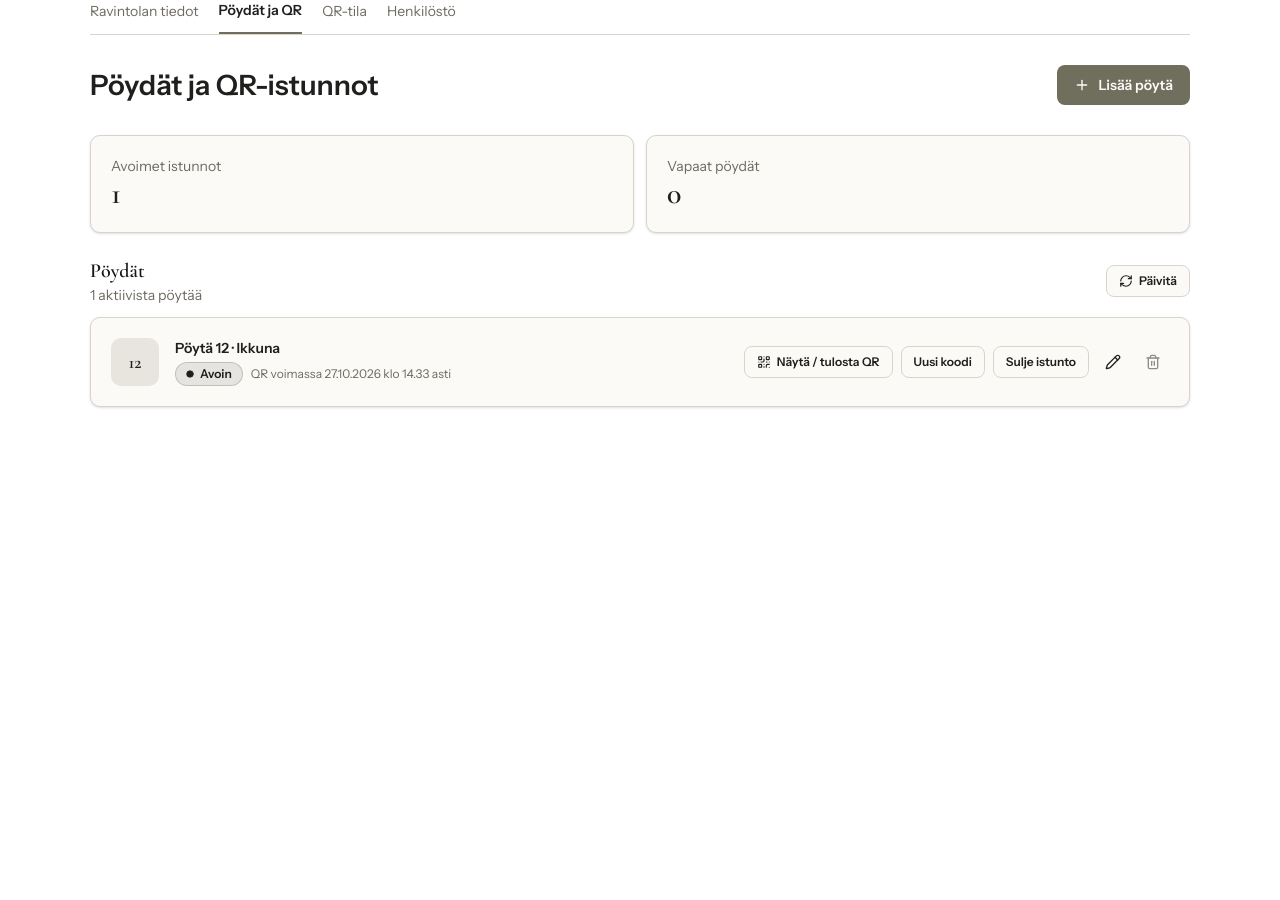
QR-01 tables screen › shows a Finnish business-rule message when unpaid orders block closing
Step 1. Click the button "Sulje istunto" → click(1041, 362), box [993,346,1089,378]
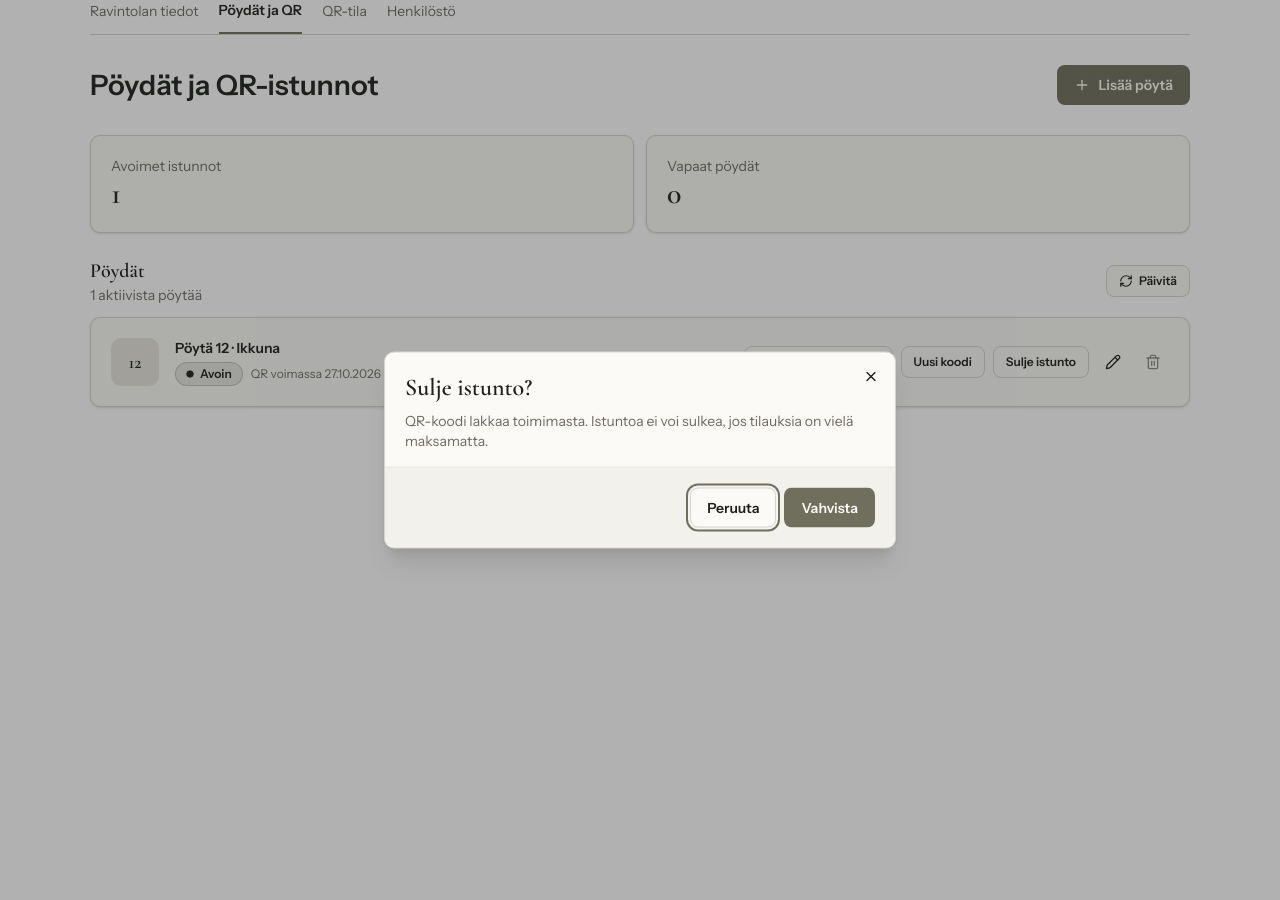
Step 2. Click the button "Vahvista" → click(830, 508), box [784,488,875,528]
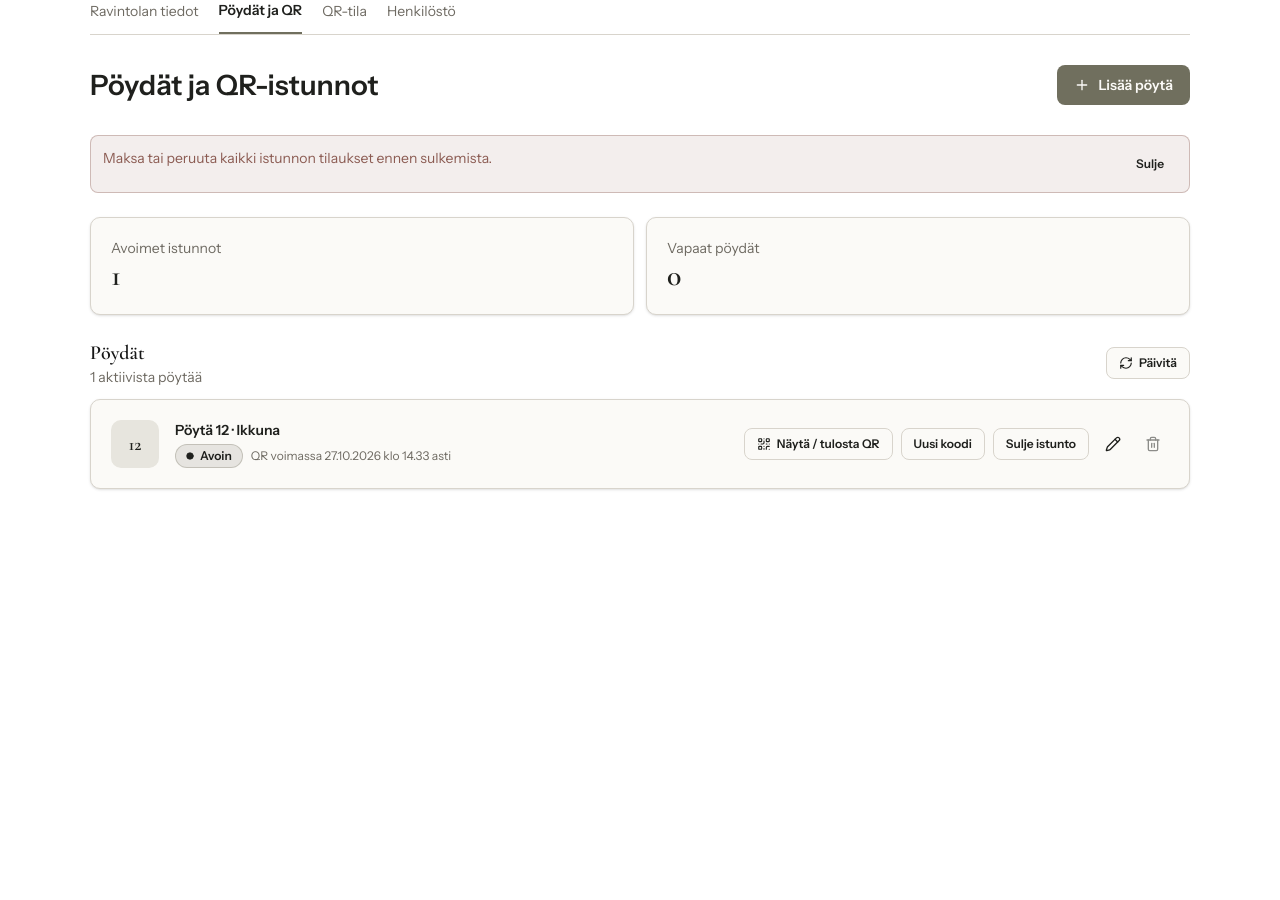
Expected: the button "Sulje istunto" is shown, [993,428,1089,460]
Now the text "Maksa tai peruuta kaikki istunnon tilaukset ennen sulkemista." is shown, box [103,148,492,168]
